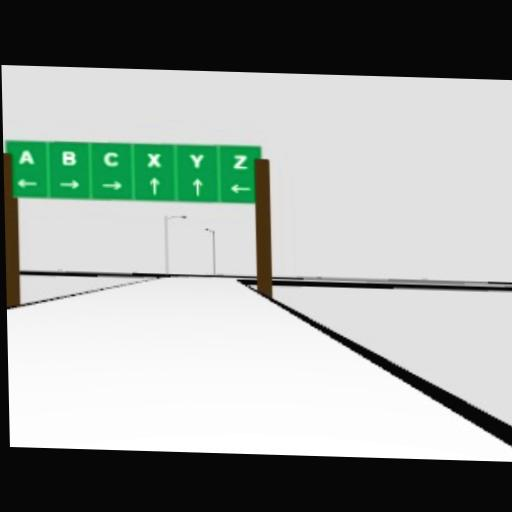A: (17, 149, 34, 164)
B: (62, 150, 77, 166)
C: (103, 151, 118, 167)
Left: (228, 182, 252, 194), (15, 178, 39, 187)
Right: (100, 179, 124, 190), (57, 178, 83, 188)
Straight: (149, 176, 159, 195), (192, 178, 202, 196)
X: (146, 153, 161, 168)
Y: (188, 152, 203, 167)
Z: (231, 153, 248, 169)
